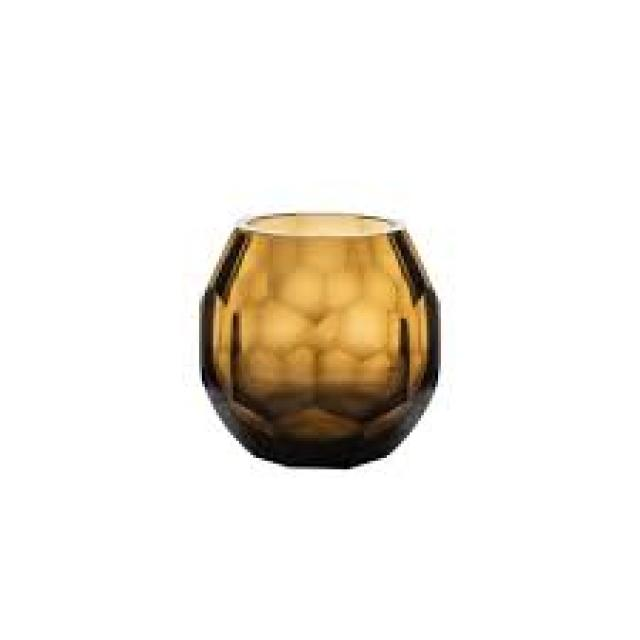glass: (196, 211, 438, 470)
